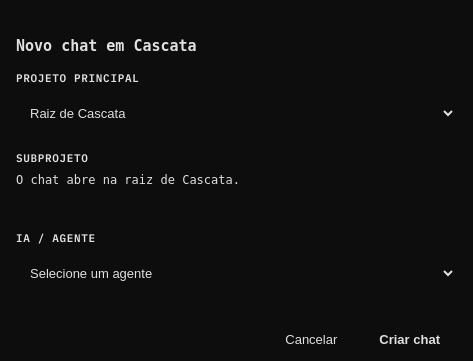
Test: NewChatSheet — level 2 "Subprojeto" (cascade slot) › state D: the M2 hint (and its aria-describedby) drops once a real subproject is picked
Step 1. Select "principal" in the dropdown named "Projeto principal" → [236, 113], box [16,91,456,135]
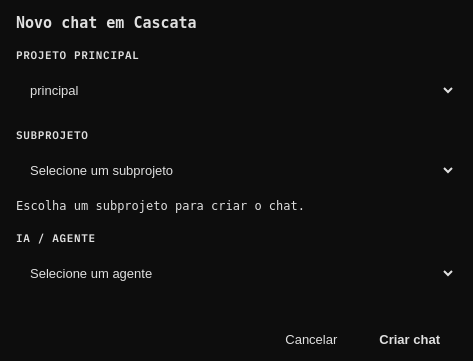
Step 2. Select "ymcy_backend" in the dropdown labelled "Subprojeto" → [236, 170], box [16,148,456,192]
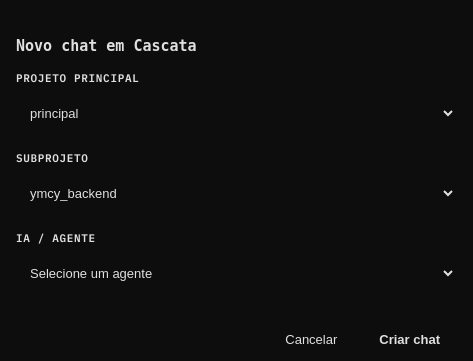
Expected: the text with id "newchat-subproject-hint" is gone
